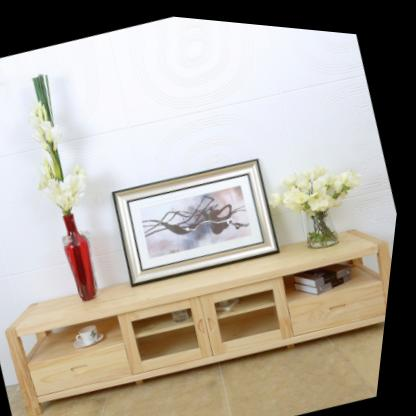Ceramic floor: (43, 315, 391, 416)
TV stand: (15, 222, 397, 416)
